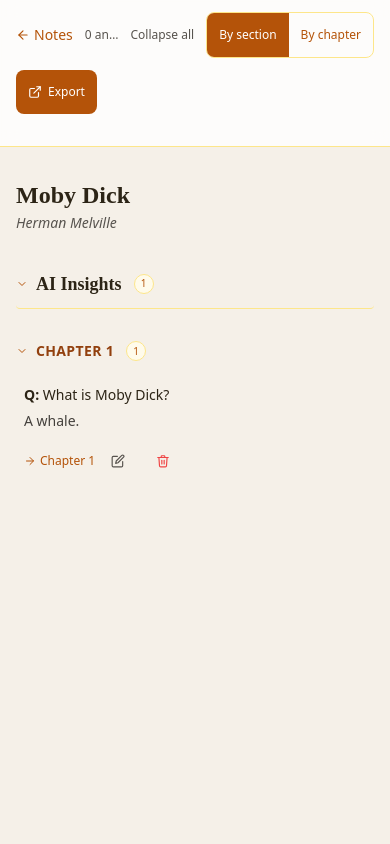
Scenario: clicking Undo in insight delete toast restores the insight (line 357)
Expected: the text "Q: What is Moby Dick?" is shown, 24,385 -> 169,404
What coordinates should you click on to do the following:
click the button named "Delete insight: What is Moby Dick?"
I would click on:
 (163, 461)
Its box is 141,439 -> 185,483.
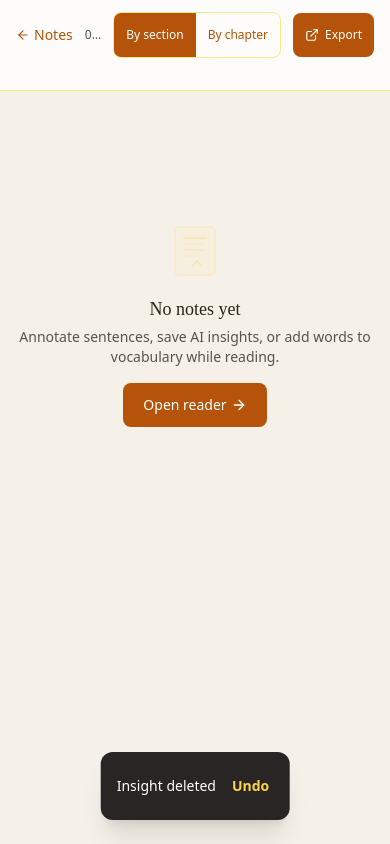
Now the text "What is Moby Dick" is gone
Now the text "Insight deleted" is shown, box 117,776 -> 216,796
What coordinates should you click on to do the following:
click the button "Undo"
I would click on:
 (251, 786)
Its box is 228,764 -> 273,808.
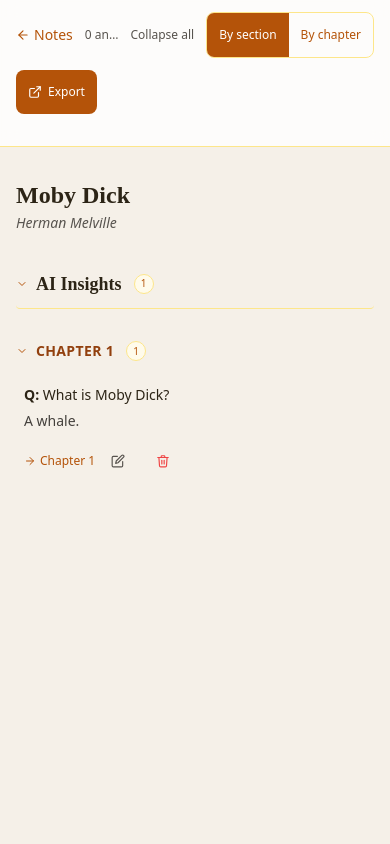
Now the text "Q: What is Moby Dick?" is shown, box 24,385 -> 169,404
